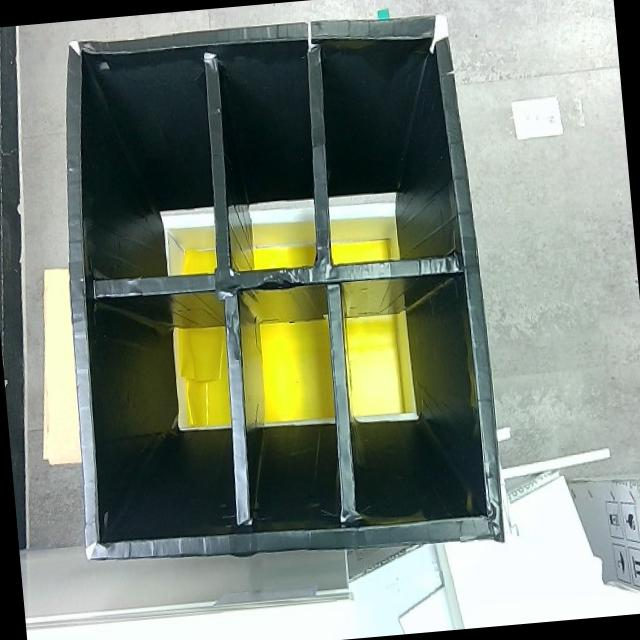box: (41, 7, 507, 576)
